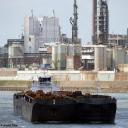tugboat: (29, 70, 62, 109)
